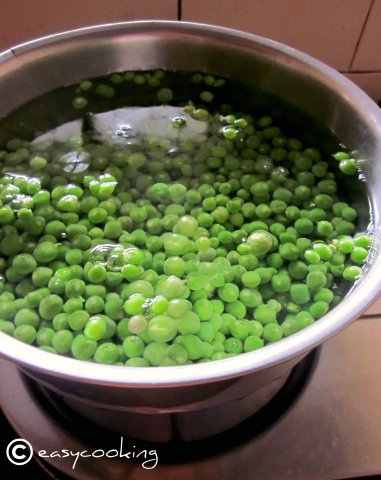boiled peas: (41, 169, 309, 326)
